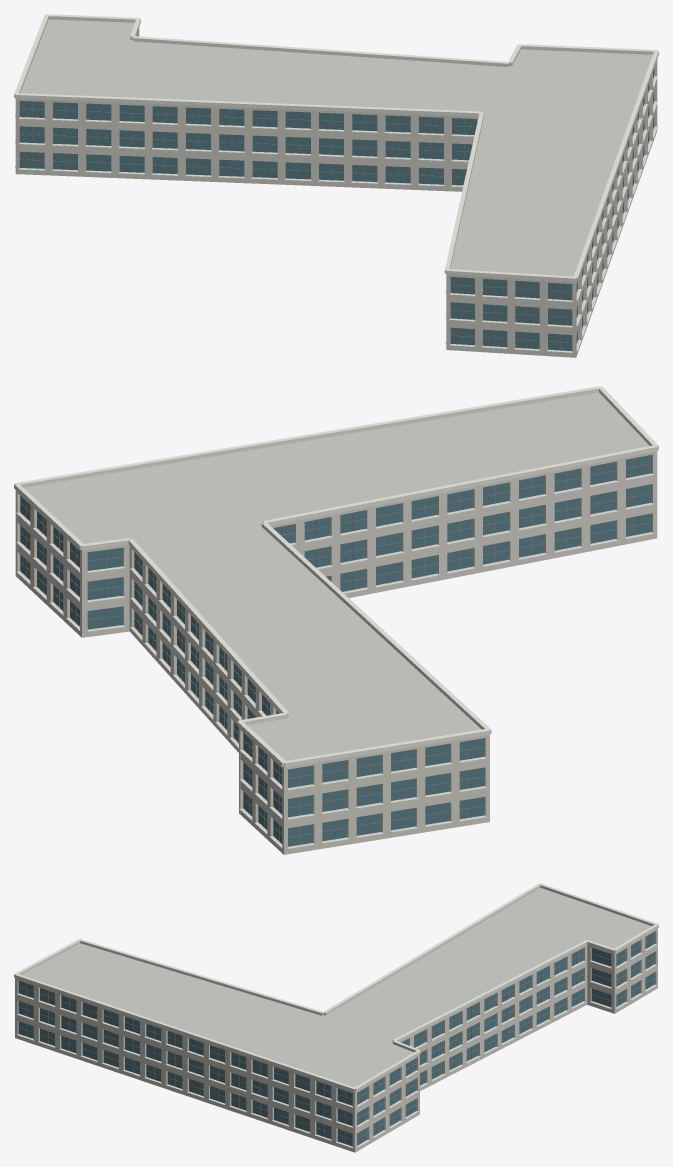
3 renders of one model, top to bottom at view 1: azimuth 30°, elevation 25°; view 2: azimuth 150°, elevation 25°; view 3: azimuth 270°, elevation 25°, orthographic. The views are drawn at different scales.
Visible parts, largest first — view 1: roof, wall, glass, trim, metal; view 2: roof, wall, glass, trim, metal; view 3: roof, wall, glass, trim, metal.
Part boxes in pixels (x1=…): roof: x1=20, y1=19, x2=652, y2=276; wall: x1=15, y1=27, x2=657, y2=357; glass: x1=19, y1=69, x2=654, y2=351; trim: x1=14, y1=14, x2=658, y2=353; metal: x1=19, y1=67, x2=654, y2=350; roof: x1=24, y1=392, x2=649, y2=760; wall: x1=15, y1=451, x2=657, y2=854; glass: x1=20, y1=454, x2=651, y2=846; trim: x1=14, y1=386, x2=658, y2=849; metal: x1=20, y1=457, x2=651, y2=844; roof: x1=22, y1=888, x2=651, y2=1087; wall: x1=15, y1=928, x2=657, y2=1152; glass: x1=18, y1=932, x2=654, y2=1146; trim: x1=14, y1=883, x2=658, y2=1148; metal: x1=19, y1=935, x2=654, y2=1144.
Bounding box in the file's own units: 67.45 × 9.74 × 89.21.
